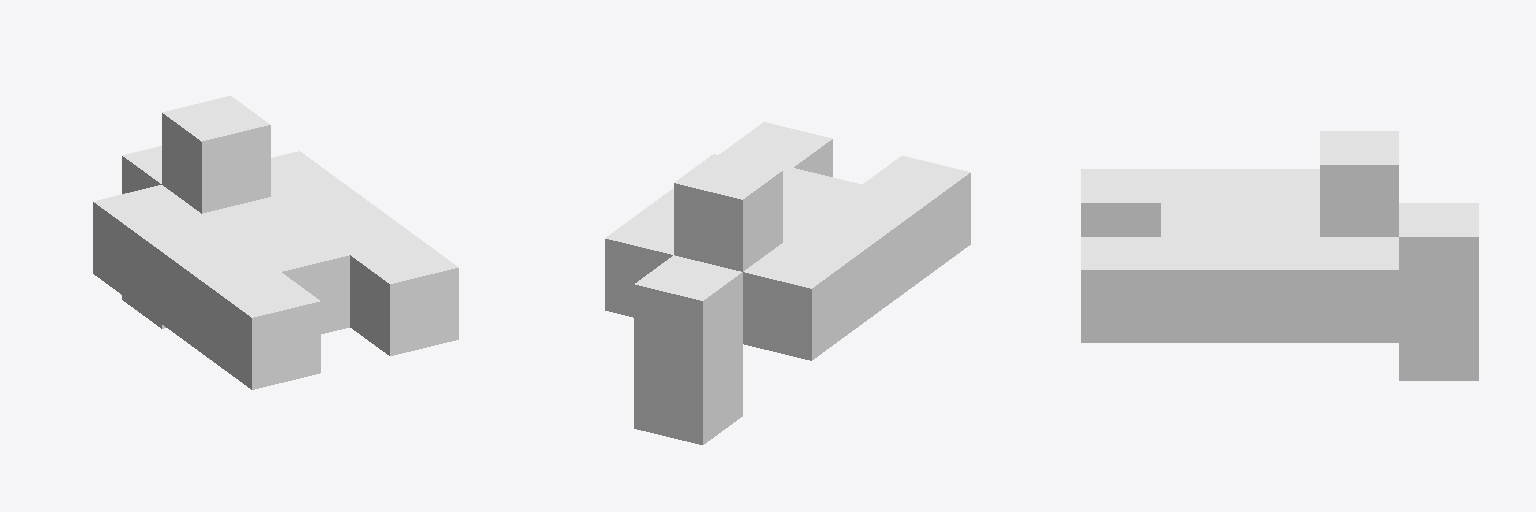
The model's file is Extra-8-StarMarine_MachineGun_R.obj.
The picture shows the model from 3 angles: view 1: azimuth 30°, elevation 25°; view 2: azimuth 150°, elevation 25°; view 3: azimuth 270°, elevation 25°; orthographic projection.
Visible parts, largest first — view 1: StarMarine_MachineGun_R; view 2: StarMarine_MachineGun_R; view 3: StarMarine_MachineGun_R.
Part boxes in pixels (bbox=[...]): StarMarine_MachineGun_R: bbox=[93, 96, 458, 389]; StarMarine_MachineGun_R: bbox=[605, 122, 970, 444]; StarMarine_MachineGun_R: bbox=[1081, 131, 1478, 380].
Bounding box in the file's own units: 0.3 × 0.3 × 0.5.